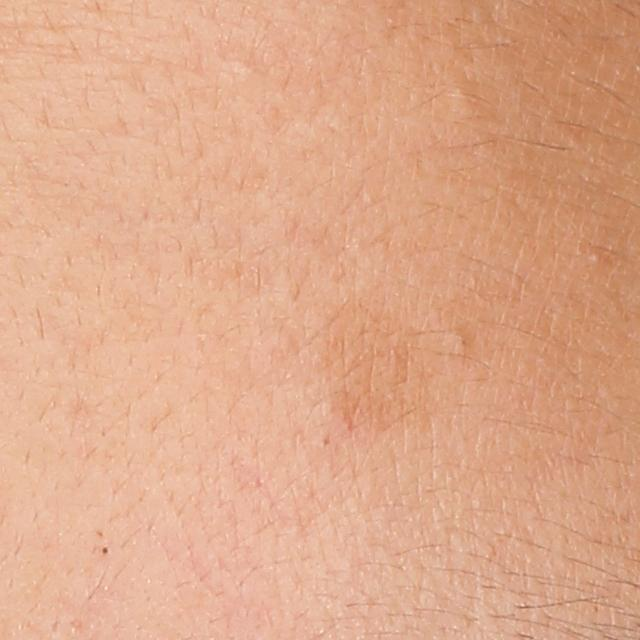comedo: (443, 326, 472, 359), (587, 249, 606, 267), (99, 543, 114, 559)
